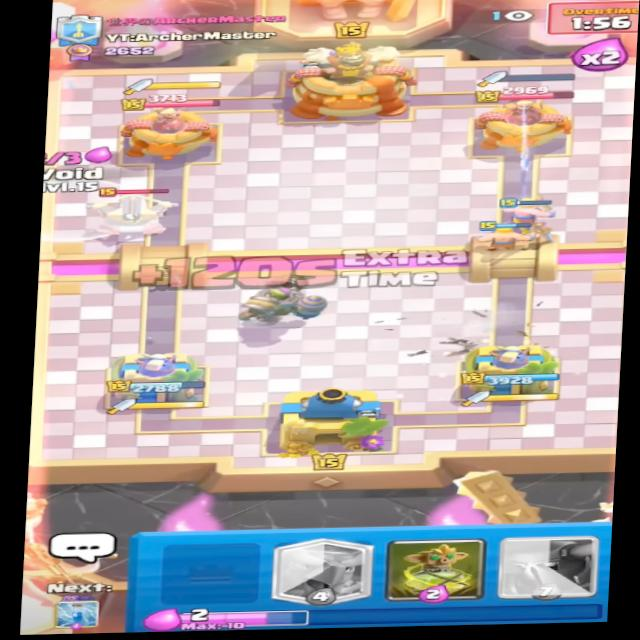Xbow: (84, 181, 184, 241)
